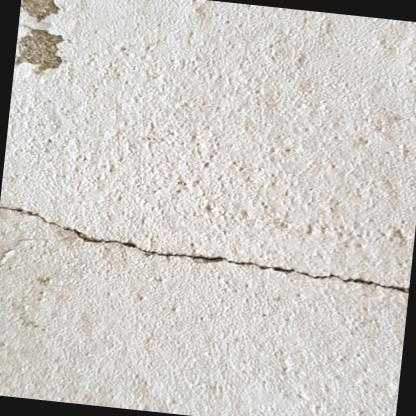crack: (0, 205, 409, 292)
